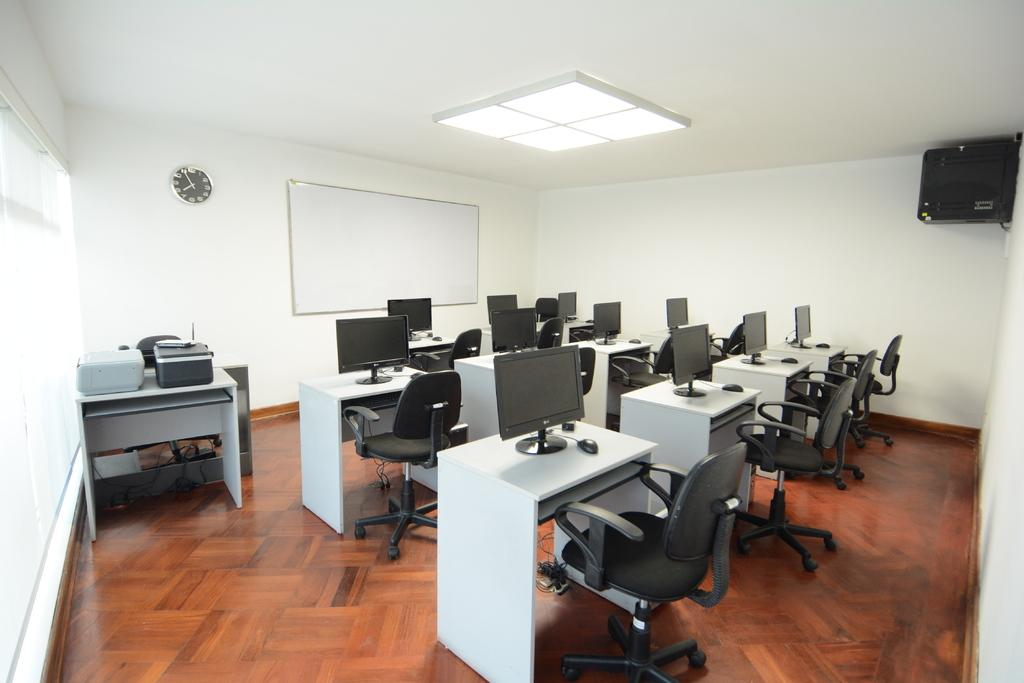Chair: (554, 440, 748, 682), (734, 369, 857, 571), (343, 369, 463, 559), (821, 333, 902, 447), (610, 335, 674, 387), (709, 322, 744, 359), (536, 317, 564, 349)
